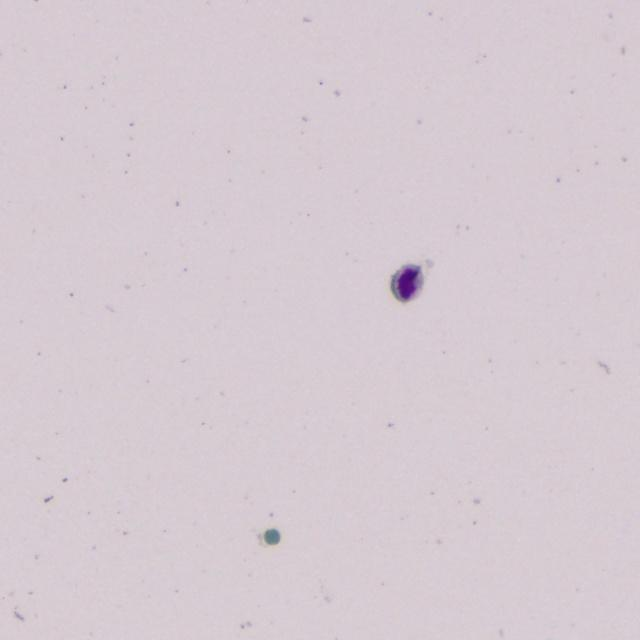intermediate: (391, 265, 422, 301)
non_viable: (263, 529, 280, 544)
